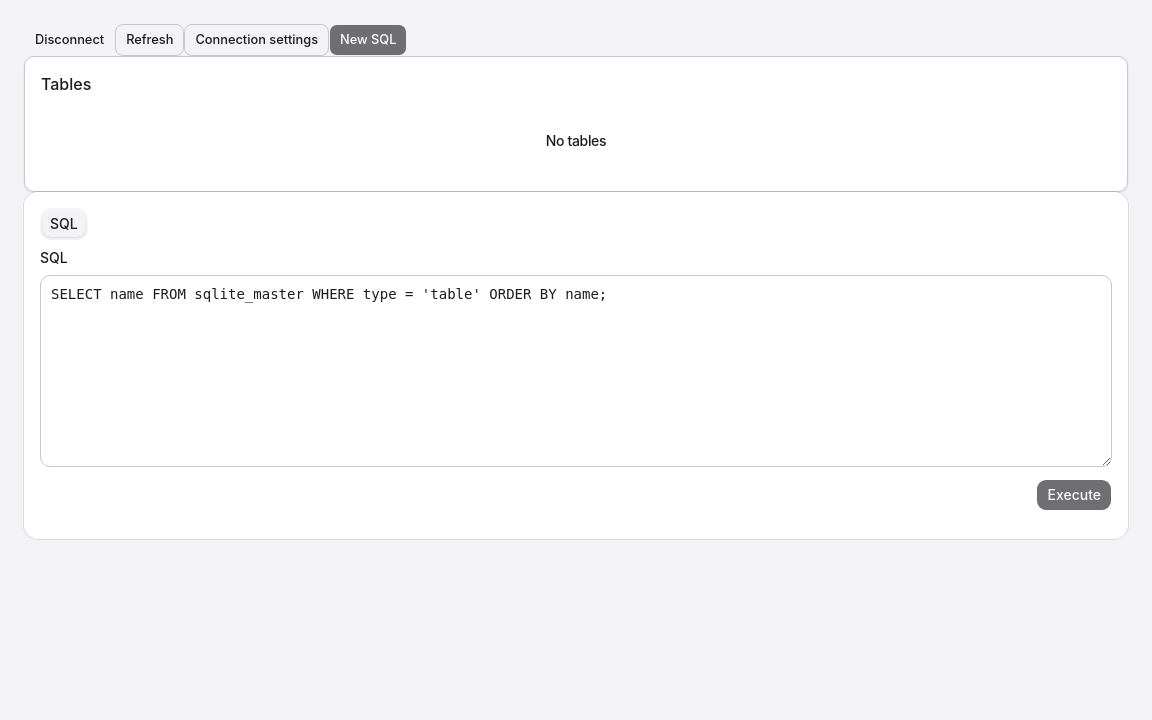
Scenario: DatabasePage › quotes table names with the active MySQL driver's identifier quote
The image size is (1152, 720).
Click the button "Refresh" at (150, 40), box [115, 24, 184, 56]
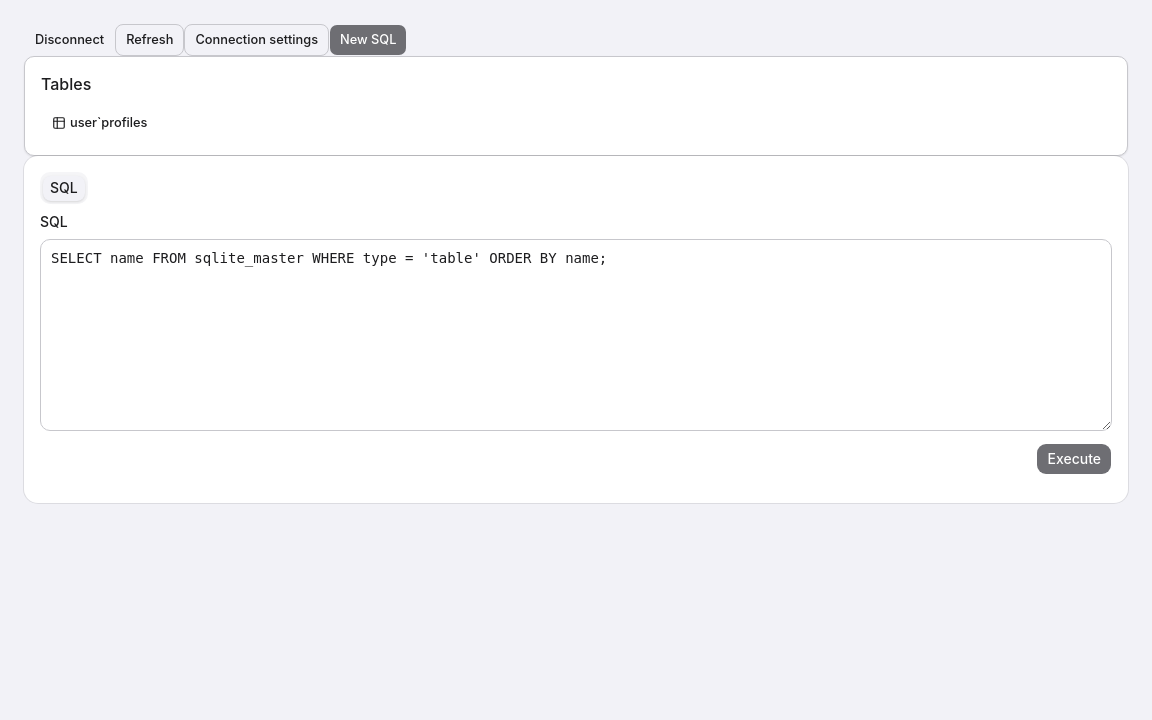
Click the button "user`profiles" at (100, 123), box [41, 107, 158, 139]
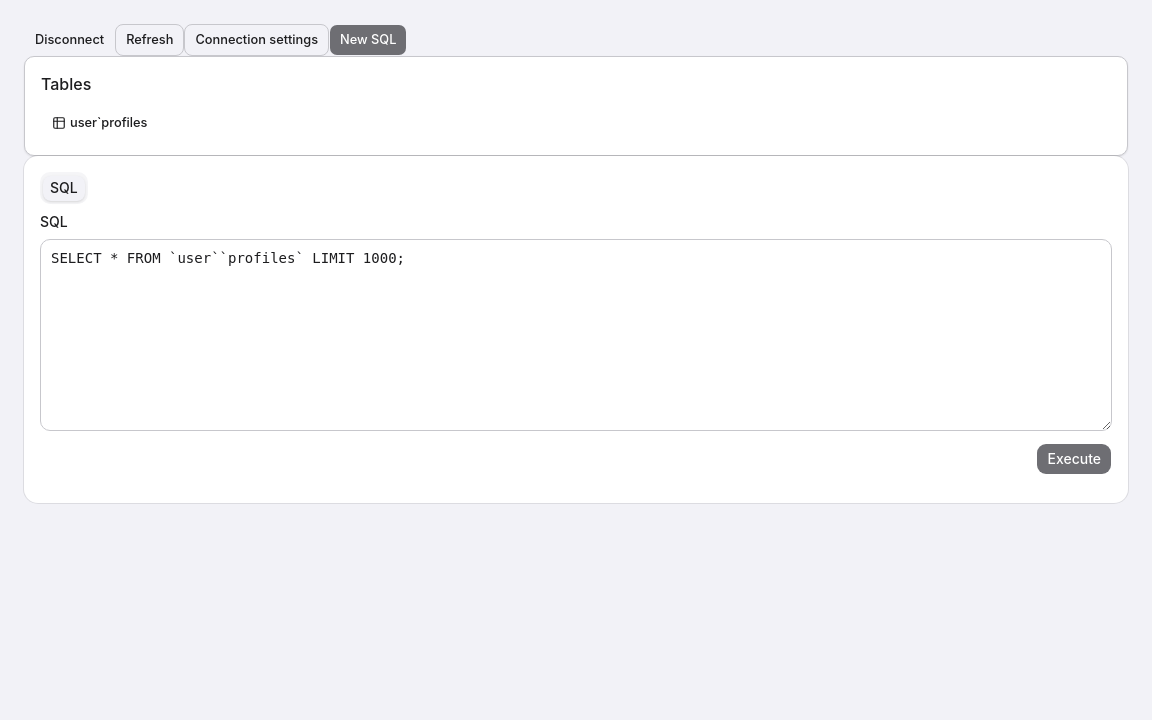
Result: the text box labelled "SQL" holds "SELECT * FROM `user``profiles` LIMIT 1000;" at [40, 239, 1112, 431]
